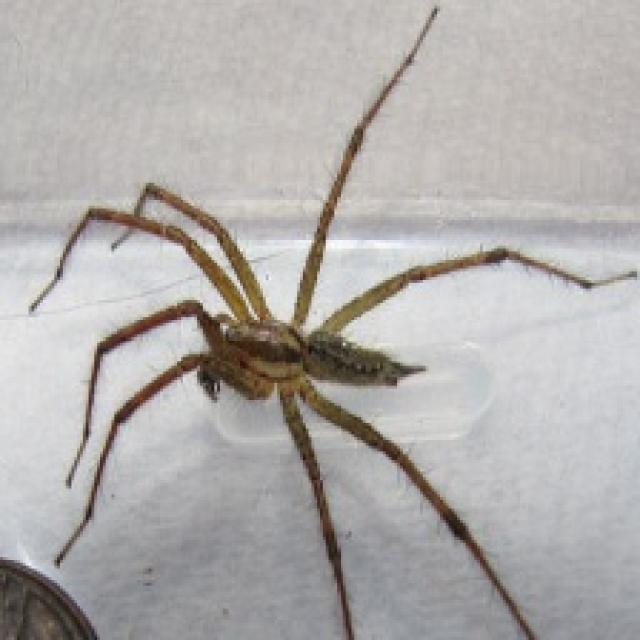Non venomous spider: (57, 50, 602, 628)
